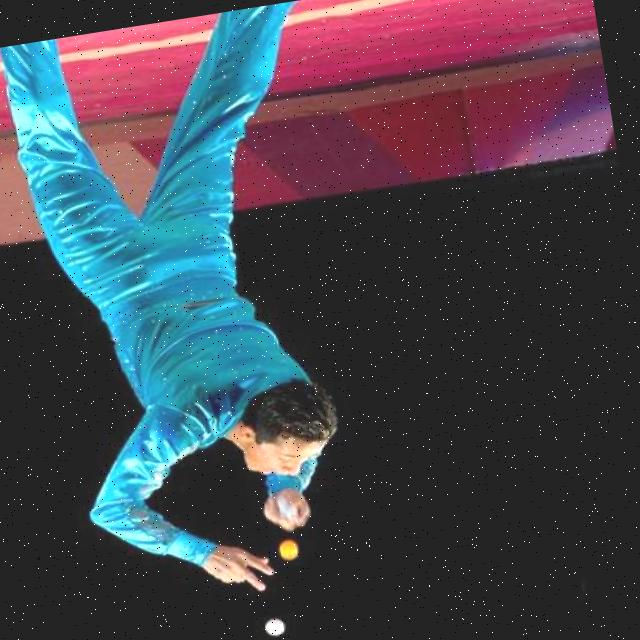ping-pong-ball: (274, 493, 298, 525), (277, 537, 300, 562), (263, 617, 286, 638)
